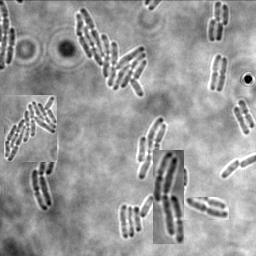Dividing: (184, 197, 229, 220), (238, 99, 255, 128), (209, 54, 222, 90), (217, 56, 228, 92), (7, 27, 17, 64)
Microcolony: (76, 7, 147, 98), (4, 95, 57, 162), (153, 150, 184, 244), (137, 117, 168, 180), (120, 195, 153, 238), (32, 162, 57, 211), (208, 1, 229, 42)
Rod: (233, 106, 251, 135), (222, 157, 240, 178)
